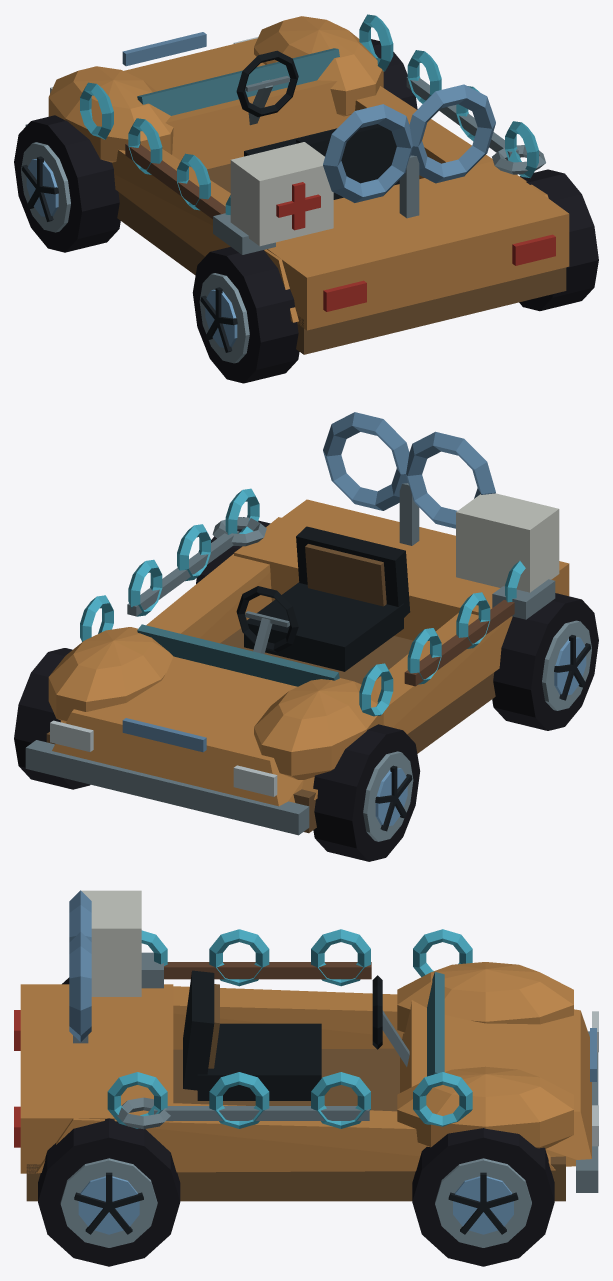
File: kart.glb
The picture shows the model from 3 angles, top to bottom: view 1: azimuth 30°, elevation 25°; view 2: azimuth 150°, elevation 25°; view 3: azimuth 270°, elevation 25°; orthographic projection. The views are drawn at different scales.
Parts seen in each view (by area): view 1: identity-toy-car-toy-rounded-body-and-wind-up-key, wheel-rear-left, wheel-front-left, identity-toy-car-motif-medical, identity-toy-car-motif-water, identity-toy-car-driver-cockpit, identity-toy-car-motif-tools, wheel-rear-right, wheel-front-right; view 2: identity-toy-car-toy-rounded-body-and-wind-up-key, identity-toy-car-driver-cockpit, wheel-front-left, wheel-rear-left, identity-toy-car-motif-medical, identity-toy-car-motif-water, identity-toy-car-motif-tools, wheel-front-right; view 3: identity-toy-car-toy-rounded-body-and-wind-up-key, wheel-rear-right, wheel-front-right, identity-toy-car-driver-cockpit, identity-toy-car-motif-water, identity-toy-car-motif-tools, identity-toy-car-motif-medical.
Part boxes in pixels (x1=…): identity-toy-car-toy-rounded-body-and-wind-up-key: x1=25, y1=16, x2=569, y2=354; wheel-rear-left: x1=192, y1=247, x2=299, y2=383; wheel-front-left: x1=14, y1=115, x2=120, y2=252; identity-toy-car-motif-medical: x1=230, y1=142, x2=333, y2=246; identity-toy-car-motif-water: x1=80, y1=14, x2=538, y2=214; identity-toy-car-driver-cockpit: x1=236, y1=50, x2=399, y2=199; identity-toy-car-motif-tools: x1=125, y1=77, x2=545, y2=254; wheel-rear-right: x1=519, y1=169, x2=598, y2=311; wheel-front-right: x1=371, y1=39, x2=417, y2=109; identity-toy-car-toy-rounded-body-and-wind-up-key: x1=25, y1=412, x2=569, y2=835; identity-toy-car-driver-cockpit: x1=236, y1=526, x2=410, y2=671; wheel-front-left: x1=313, y1=724, x2=420, y2=861; wheel-rear-left: x1=492, y1=593, x2=598, y2=730; identity-toy-car-motif-medical: x1=456, y1=493, x2=559, y2=592; identity-toy-car-motif-water: x1=80, y1=488, x2=525, y2=716; identity-toy-car-motif-tools: x1=127, y1=517, x2=555, y2=686; wheel-front-right: x1=14, y1=648, x2=90, y2=789; identity-toy-car-toy-rounded-body-and-wind-up-key: x1=14, y1=890, x2=598, y2=1201; wheel-rear-right: x1=38, y1=1118, x2=180, y2=1266; wheel-front-right: x1=412, y1=1128, x2=554, y2=1266; identity-toy-car-driver-cockpit: x1=183, y1=970, x2=409, y2=1100; identity-toy-car-motif-water: x1=107, y1=929, x2=472, y2=1128; identity-toy-car-motif-tools: x1=116, y1=952, x2=371, y2=1129; identity-toy-car-motif-medical: x1=81, y1=890, x2=141, y2=996.
Bounding box in the file's own units: 2.13 × 1.42 × 2.88.
